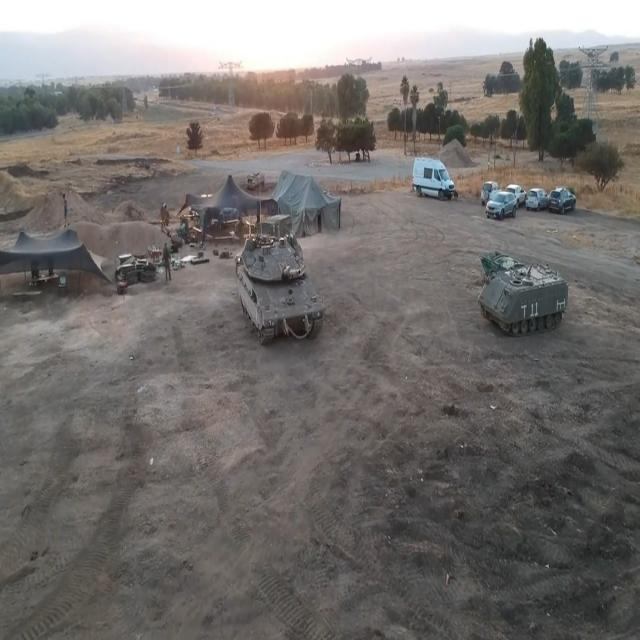tank: (231, 221, 333, 349)
